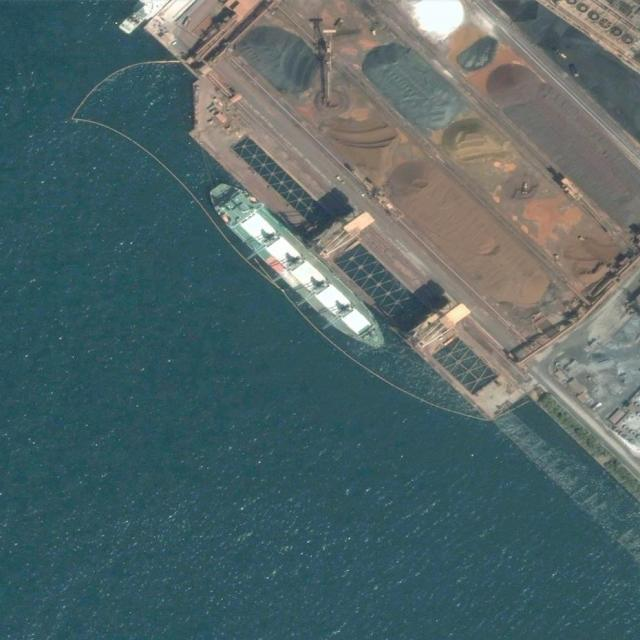Cargo: (200, 170, 397, 364)
